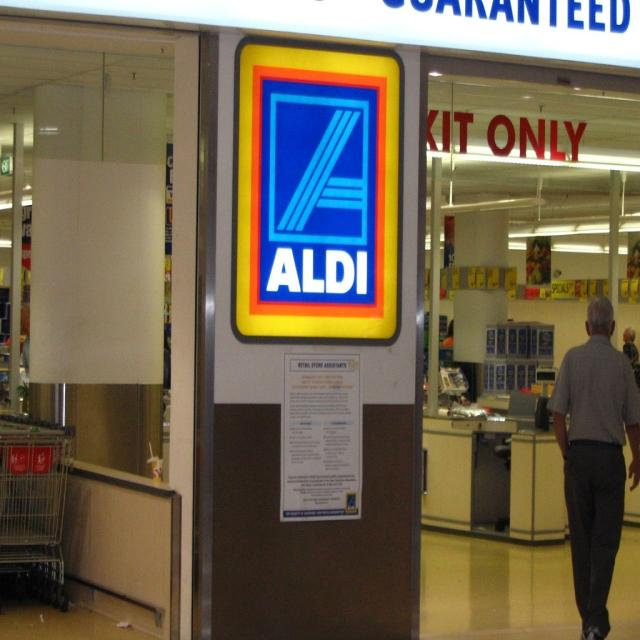aldi: (237, 44, 401, 340)
